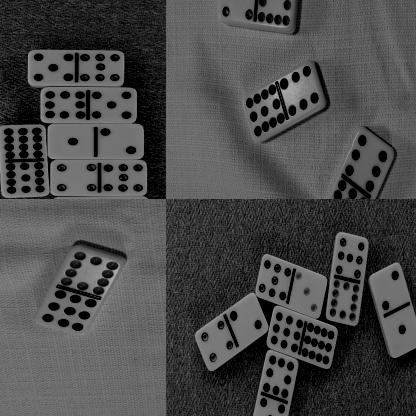pip-1: (47, 123, 97, 160), (387, 307, 416, 357)
pip-10: (61, 245, 122, 295), (328, 280, 361, 326), (258, 0, 297, 30)
pip-11: (244, 86, 285, 143), (1, 160, 50, 198)
pip-12: (302, 322, 339, 370), (0, 124, 48, 160), (322, 179, 368, 199)
pip-2: (231, 294, 269, 351), (370, 262, 406, 314), (96, 125, 145, 160)
pip-3: (292, 271, 328, 320)
pip-4: (196, 321, 234, 372), (50, 160, 101, 197), (219, 0, 258, 24)
pip-5: (28, 49, 76, 87), (89, 87, 138, 123), (250, 397, 286, 416)
pip-6: (346, 128, 395, 192), (281, 63, 326, 117)
pip-7: (257, 254, 292, 304), (77, 51, 125, 87), (100, 160, 148, 196), (335, 232, 369, 280)
pip-8: (262, 350, 299, 400), (40, 87, 89, 123)
pip-9: (37, 291, 99, 336), (268, 306, 304, 357)
